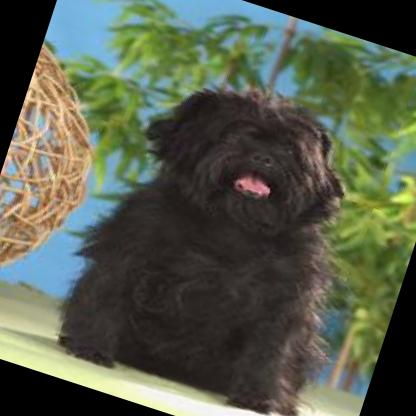affenpinscher: (39, 51, 393, 416)
